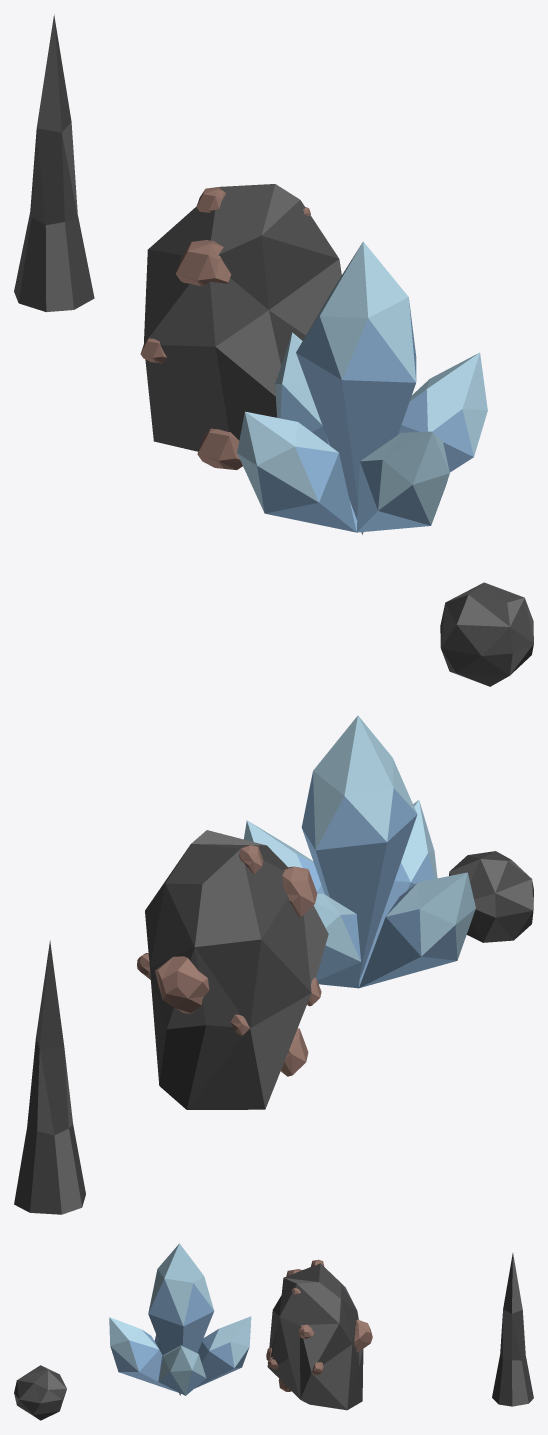
The model's file is Minerals.fbx.
3 renders of one model, top to bottom at view 1: azimuth 30°, elevation 25°; view 2: azimuth 150°, elevation 25°; view 3: azimuth 270°, elevation 25°, orthographic. The views are drawn at different scales.
Parts seen in each view (by area): view 1: CrystalLOD0, IronOreLOD0, StalagLOD0, StoneLOD0; view 2: IronOreLOD0, CrystalLOD0, StalagLOD0, StoneLOD0; view 3: CrystalLOD0, IronOreLOD0, StalagLOD0, StoneLOD0.
Boxes of the visible parts, <box> form: CrystalLOD0: <box>237,241,487,534</box>; IronOreLOD0: <box>140,184,341,470</box>; StalagLOD0: <box>14,14,94,312</box>; StoneLOD0: <box>440,582,533,686</box>; IronOreLOD0: <box>137,830,328,1109</box>; CrystalLOD0: <box>243,715,475,988</box>; StalagLOD0: <box>14,940,85,1214</box>; StoneLOD0: <box>449,851,533,942</box>; CrystalLOD0: <box>109,1243,251,1395</box>; IronOreLOD0: <box>266,1259,372,1410</box>; StalagLOD0: <box>492,1253,533,1406</box>; StoneLOD0: <box>14,1365,66,1420</box>.
Size of what is drawn, in the model's own units: 5.34 by 7.3 by 19.54.
